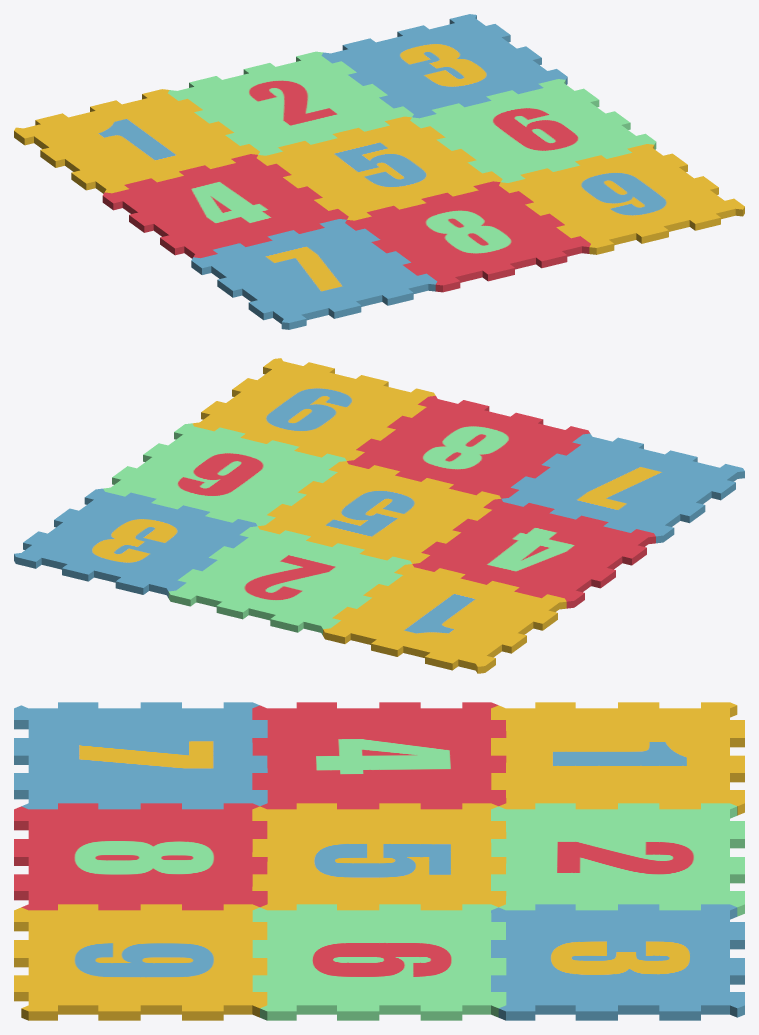
Rendered from carpet.fbx.
The picture shows the model from 3 angles, top to bottom: view 1: azimuth 30°, elevation 25°; view 2: azimuth 150°, elevation 25°; view 3: azimuth 270°, elevation 25°; orthographic projection. The views are drawn at different scales.
Parts seen in each view (by area): view 1: Carpet; view 2: Carpet; view 3: Carpet.
Part boxes in pixels (<box>): Carpet: <box>14,14,744,329</box>; Carpet: <box>14,358,744,673</box>; Carpet: <box>14,702,744,1020</box>.
Bounding box in the file's own units: 577 × 8.12 × 577.
1 material, 1 textured.
